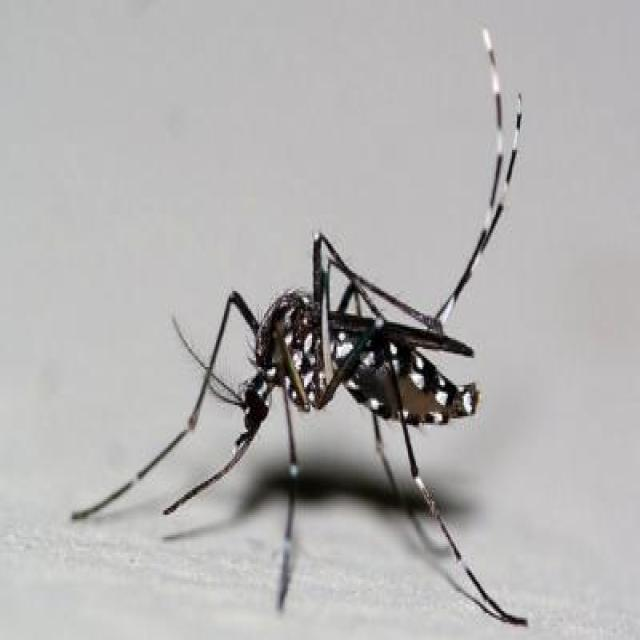antennae: (170, 314, 244, 410)
body: (243, 291, 479, 442)
insect: (72, 27, 526, 629)
legs: (308, 30, 522, 312), (72, 289, 254, 523), (388, 375, 526, 629)
mouthpart: (163, 419, 257, 532)
wings: (316, 298, 475, 360)
